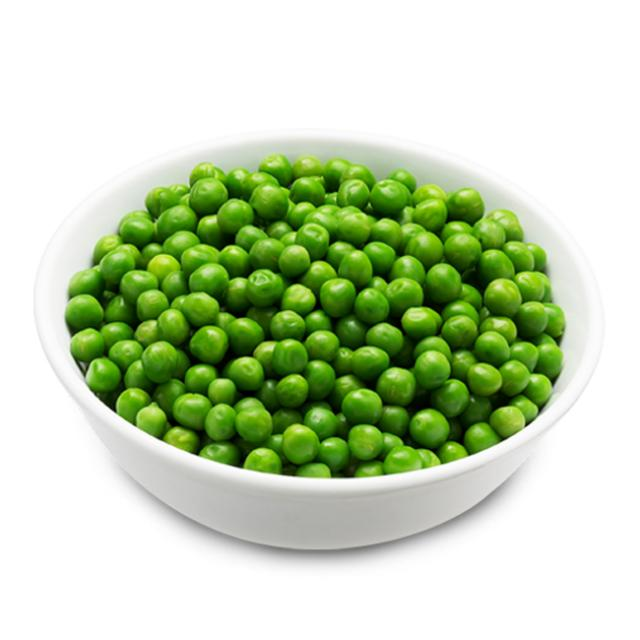pea: (90, 152, 552, 462)
